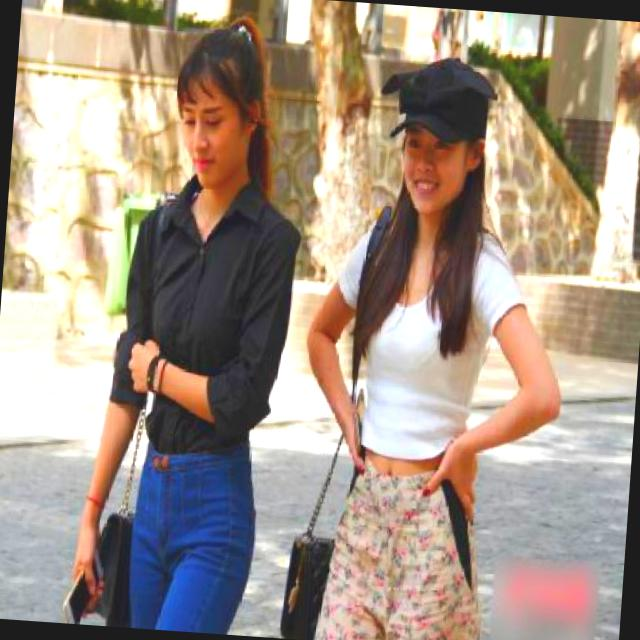Person: (307, 30, 558, 640), (94, 20, 286, 634)
